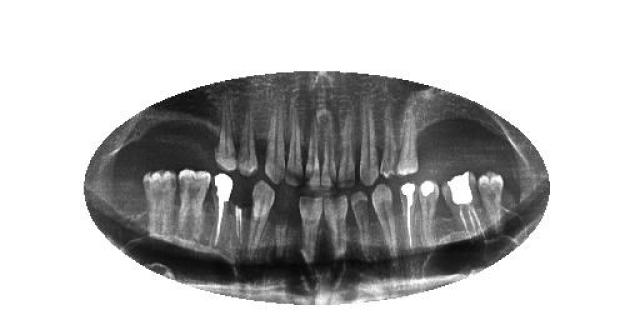Cavity: (272, 210, 288, 260), (230, 198, 246, 244)
Fillings: (419, 180, 440, 242)
Implant: (441, 171, 491, 245), (208, 174, 234, 250), (399, 182, 419, 252)
